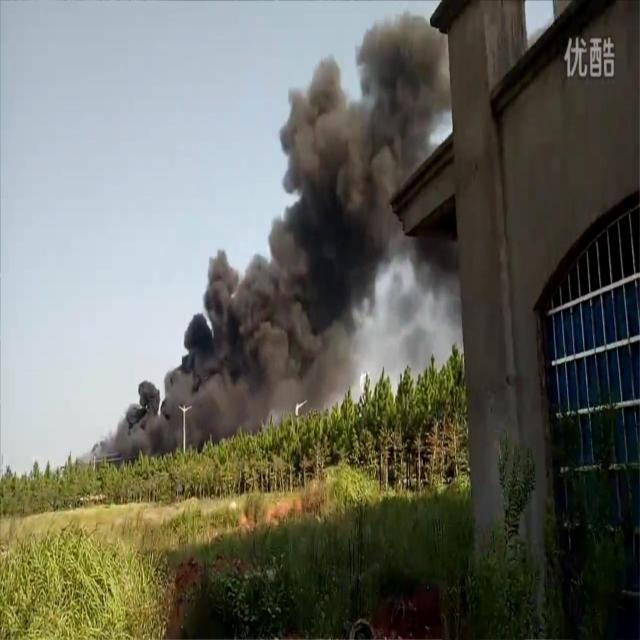Smoke: (72, 9, 466, 473)
